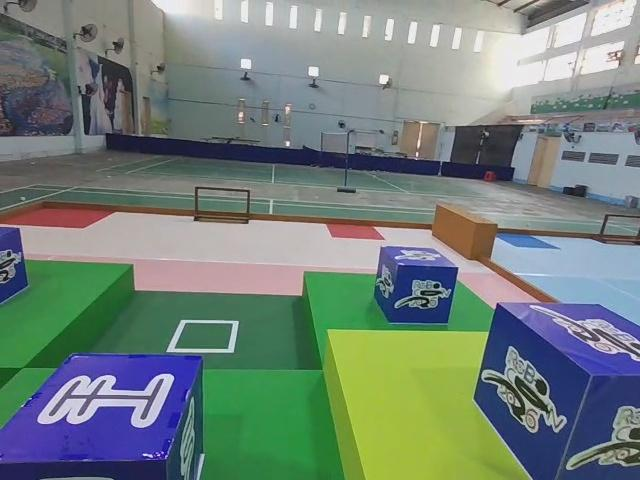R1 Blue: (474, 298, 639, 480), (376, 245, 461, 327), (0, 227, 28, 316)
R2 Fake Blue: (0, 353, 206, 479)
